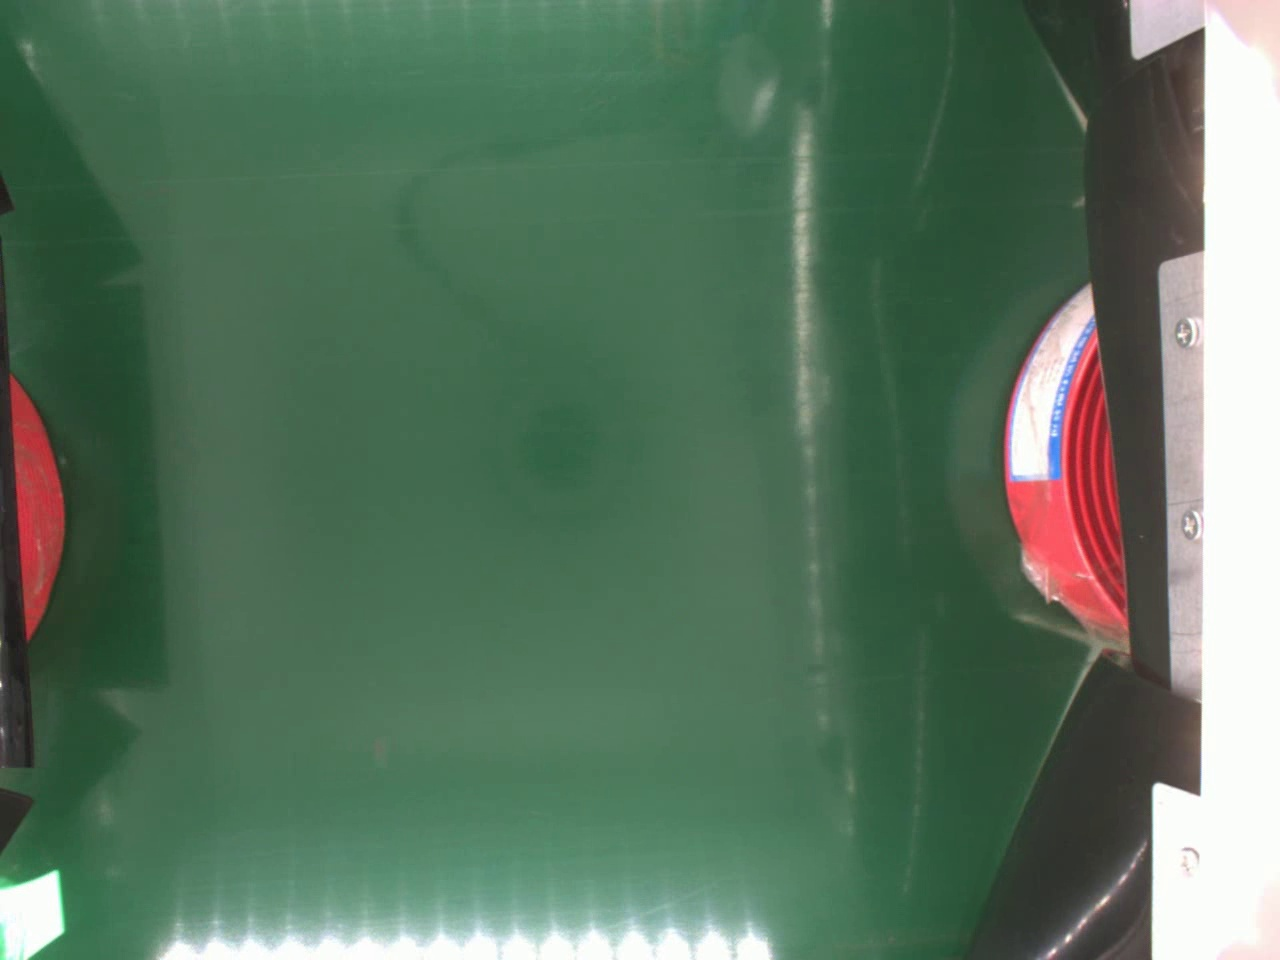red: (1000, 277, 1133, 642)
